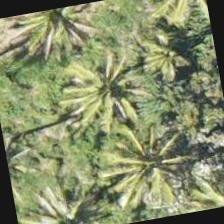Kelapa_Sawit: (56, 42, 160, 146), (93, 115, 197, 219), (8, 1, 106, 71), (12, 175, 109, 223), (160, 156, 223, 215)
